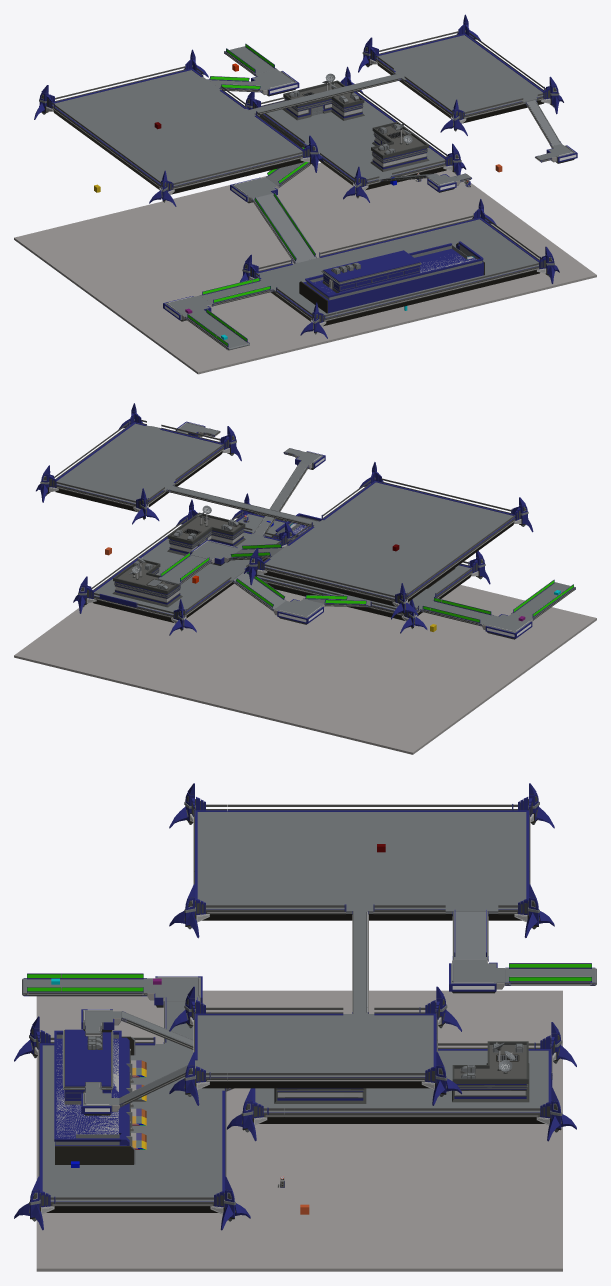
The picture shows the model from 3 angles, top to bottom: view 1: azimuth 30°, elevation 25°; view 2: azimuth 150°, elevation 25°; view 3: azimuth 270°, elevation 25°; orthographic projection. The views are drawn at different scales.
Parts seen in each view (by area): view 1: ground.008, Big Platform.022, Big Platform.019, Big Platform.021, Big Platform.020, garage mesh.003, garage.003, path large.017, house 2.002, house 2.001, path small .015, path large.015 (+8 smaller); view 2: ground.008, Big Platform.022, Big Platform.021, Big Platform.020, Big Platform.019, house 2.001, house 2.002, path small .015, path large.015, path large.016, path large.018, corner large.014 (+6 smaller); view 3: ground.008, Big Platform.022, Big Platform.021, Big Platform.019, Big Platform.020, garage mesh.003, garage.003, house 2.001, path large.015, path large.020, path large.019, corner large.015 (+8 smaller).
Part boxes in pixels (bbox=[...]): ground.008: bbox=[14, 162, 596, 374]; Big Platform.022: bbox=[34, 49, 323, 206]; Big Platform.019: bbox=[240, 199, 559, 338]; Big Platform.021: bbox=[358, 14, 563, 135]; Big Platform.020: bbox=[245, 66, 466, 202]; garage mesh.003: bbox=[303, 244, 483, 313]; garage.003: bbox=[299, 241, 484, 313]; path large.017: bbox=[252, 192, 316, 263]; house 2.002: bbox=[370, 121, 429, 171]; house 2.001: bbox=[282, 80, 364, 120]; path small .015: bbox=[248, 74, 401, 114]; path large.015: bbox=[185, 309, 249, 350]; ground.008: bbox=[14, 583, 596, 754]; Big Platform.022: bbox=[244, 462, 533, 619]; Big Platform.021: bbox=[36, 403, 241, 524]; Big Platform.020: bbox=[73, 499, 294, 635]; Big Platform.019: bbox=[231, 493, 490, 633]; house 2.001: bbox=[112, 559, 182, 607]; house 2.002: bbox=[167, 513, 245, 555]; path small .015: bbox=[166, 485, 319, 526]; path large.015: bbox=[511, 579, 575, 620]; path large.016: bbox=[420, 597, 493, 626]; path large.018: bbox=[232, 572, 285, 611]; corner large.014: bbox=[273, 599, 324, 624]; ground.008: bbox=[36, 990, 562, 1271]; Big Platform.022: bbox=[169, 783, 554, 938]; Big Platform.021: bbox=[169, 986, 461, 1105]; Big Platform.019: bbox=[14, 1016, 250, 1230]; Big Platform.020: bbox=[227, 1022, 576, 1141]; garage mesh.003: bbox=[55, 1029, 146, 1149]; garage.003: bbox=[54, 1029, 135, 1164]; house 2.001: bbox=[452, 1041, 529, 1102]; path large.015: bbox=[22, 973, 146, 996]; path large.020: bbox=[505, 963, 596, 985]; path large.019: bbox=[452, 909, 488, 961]; corner large.015: bbox=[449, 959, 504, 993].
Size of the model in its own units: 42139 by 35255 by 15041.
